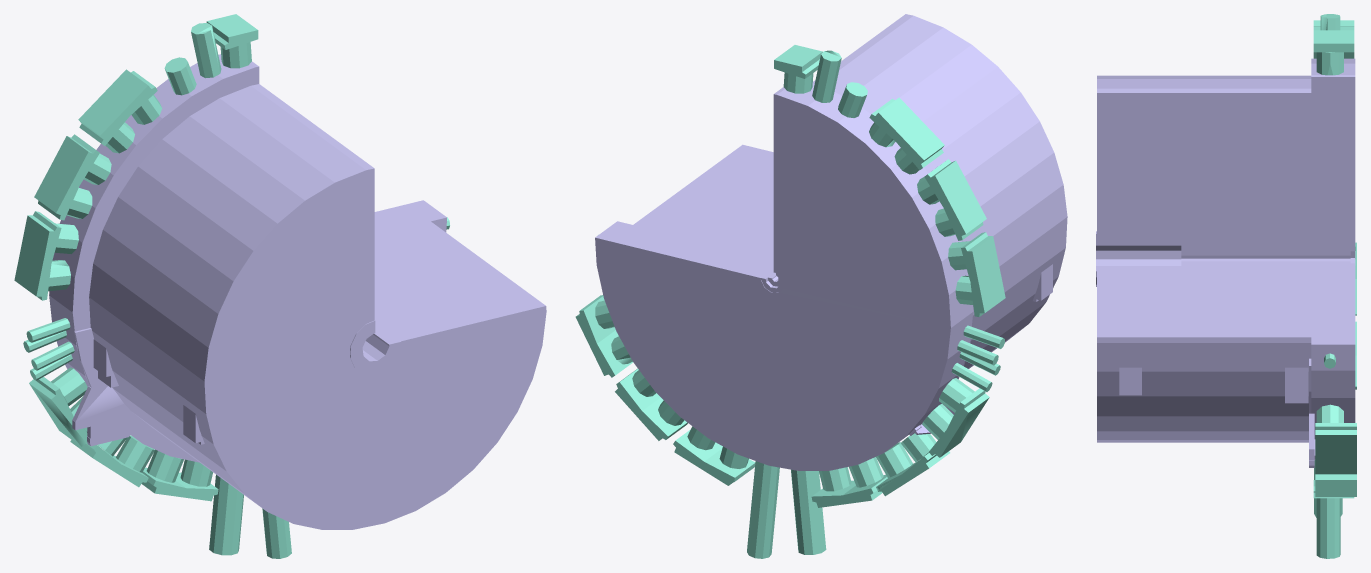
Rendered from Lar-EMEC-SideC-cut3.glb.
The picture shows the model from 3 angles, left to right: view 1: azimuth 30°, elevation 25°; view 2: azimuth 150°, elevation 25°; view 3: azimuth 270°, elevation 25°; orthographic projection. The views are drawn at different scales.
Visible parts, largest first — view 1: null.007; view 2: null.007; view 3: null.007.
Part boxes in pixels (x1=…): null.007: x1=14, y1=14, x2=546, y2=558; null.007: x1=575, y1=14, x2=1067, y2=558; null.007: x1=1096, y1=14, x2=1356, y2=558.
Size of the model in its own units: 5.7 by 6.88 by 3.21.
